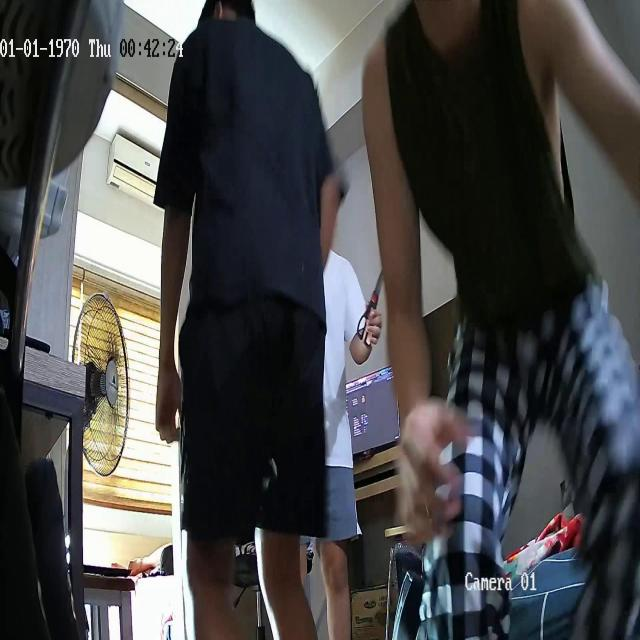scissor: (357, 270, 384, 349)
